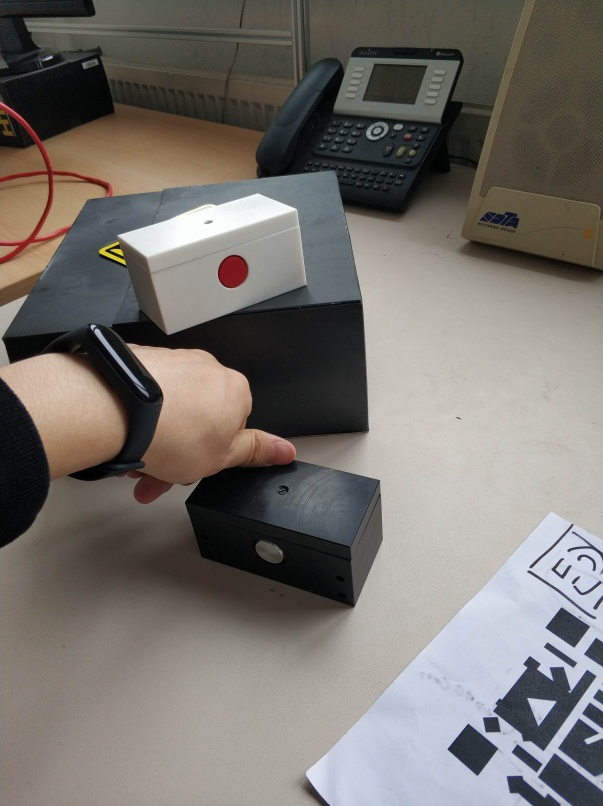black+black+silver: (181, 454, 386, 611)
white+white+red: (113, 190, 309, 339)
